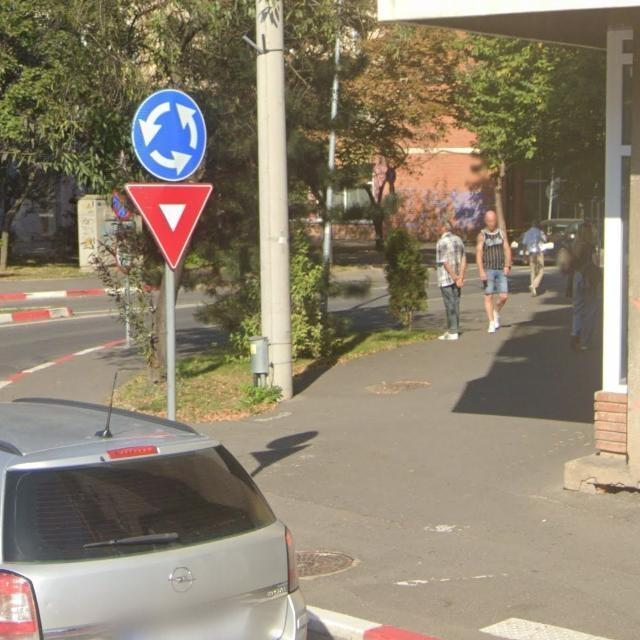prio_give_way: (129, 185, 215, 271)
